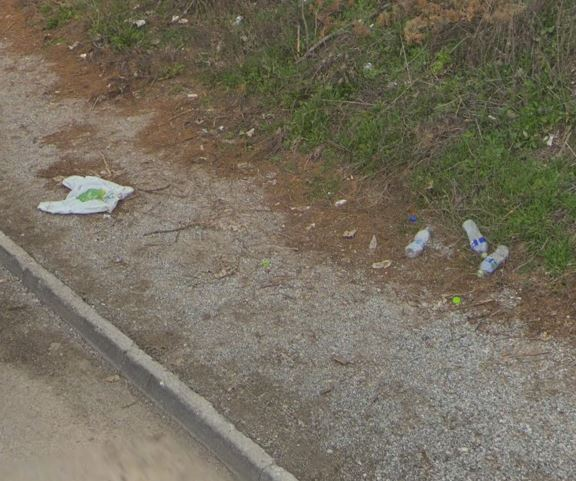trash: (32, 157, 142, 223), (463, 213, 513, 287), (395, 210, 441, 263)
